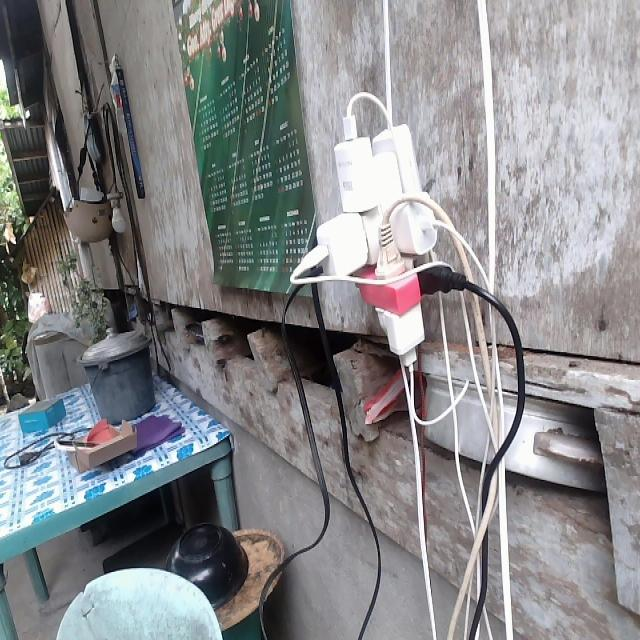-: (300, 91, 470, 373)
